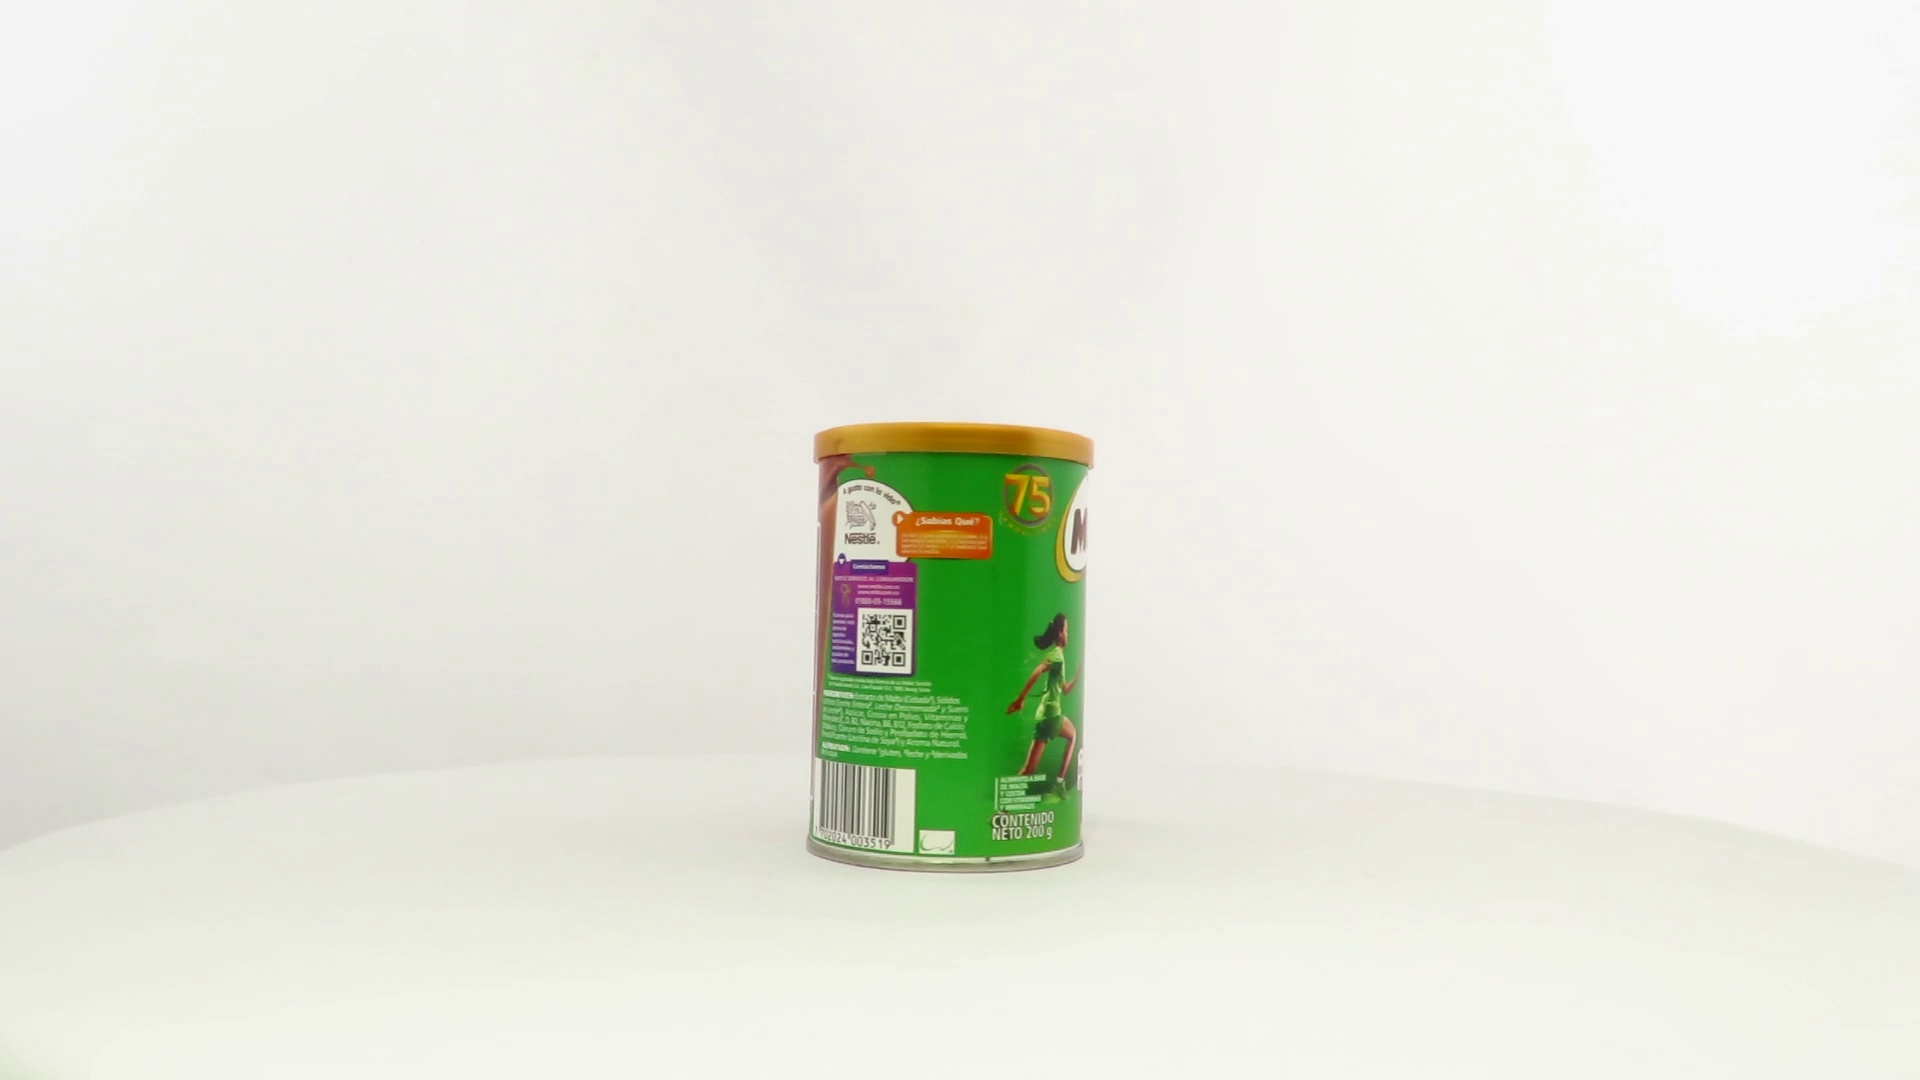COL0170203LAT20000: (800, 415, 1100, 880)
